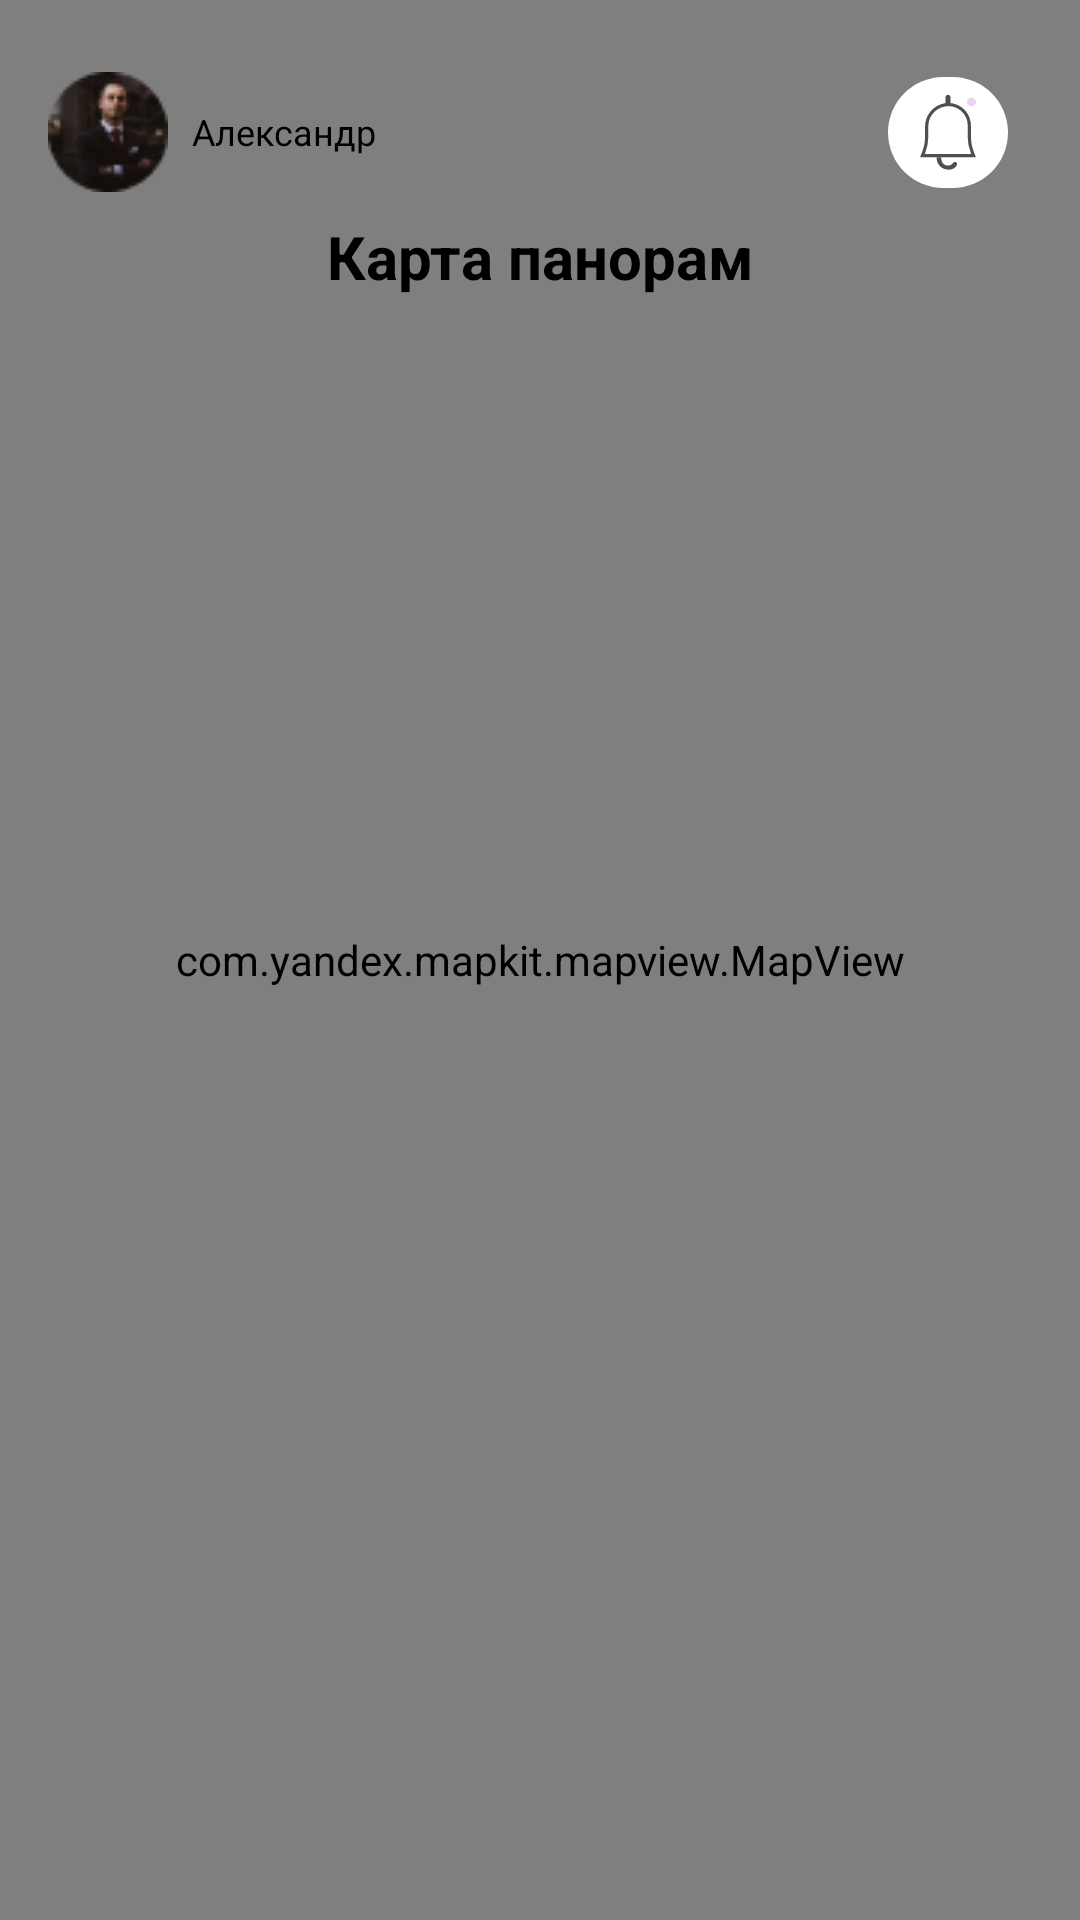

Named icons in this screenshot (1080px x 1920px) and their centers, (x=x, y=y):
notifications: (x=948, y=132)
